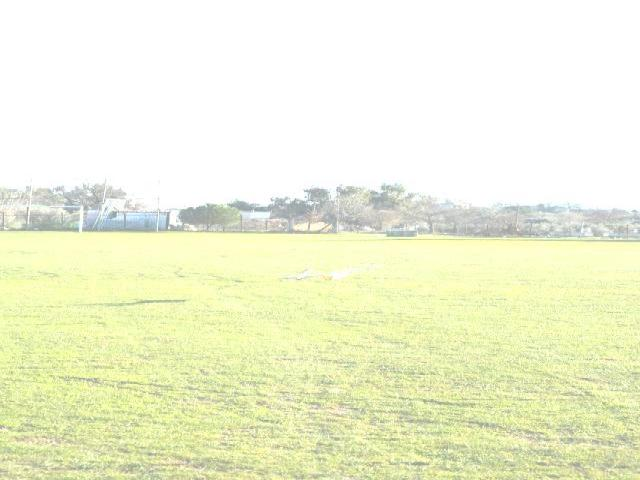iha: (276, 263, 372, 287)
